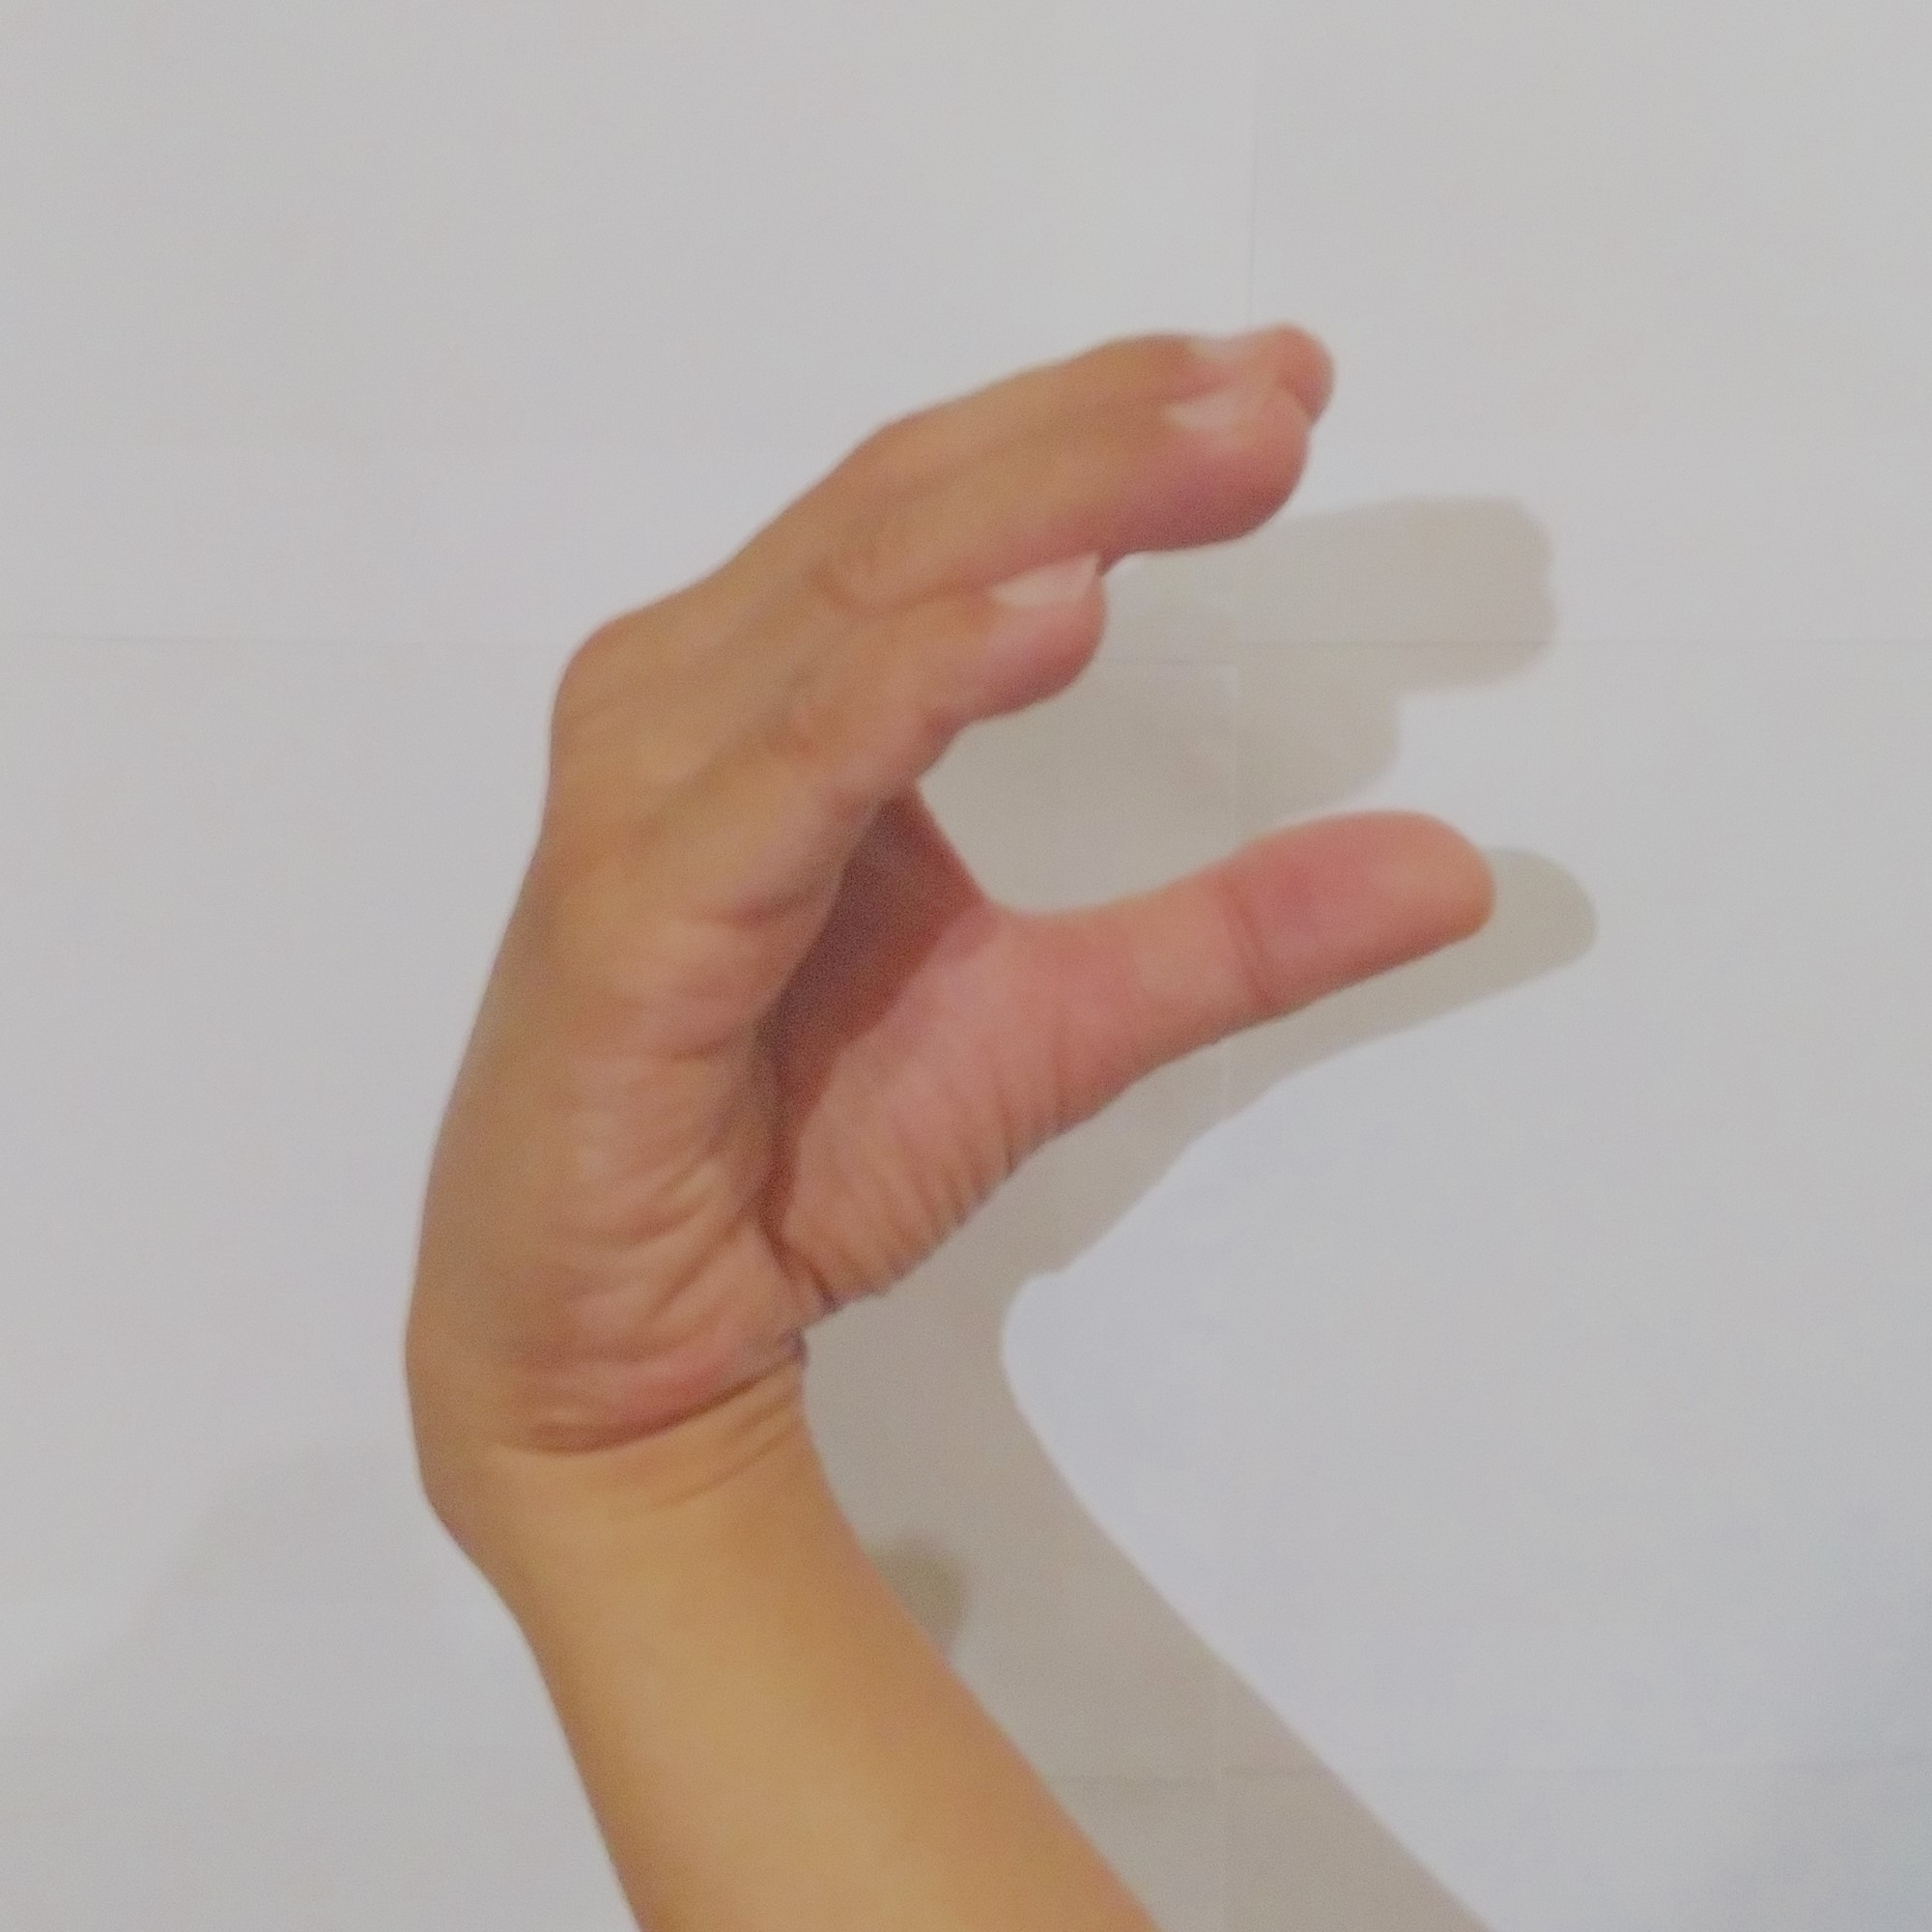C: (409, 297, 1522, 1396)
